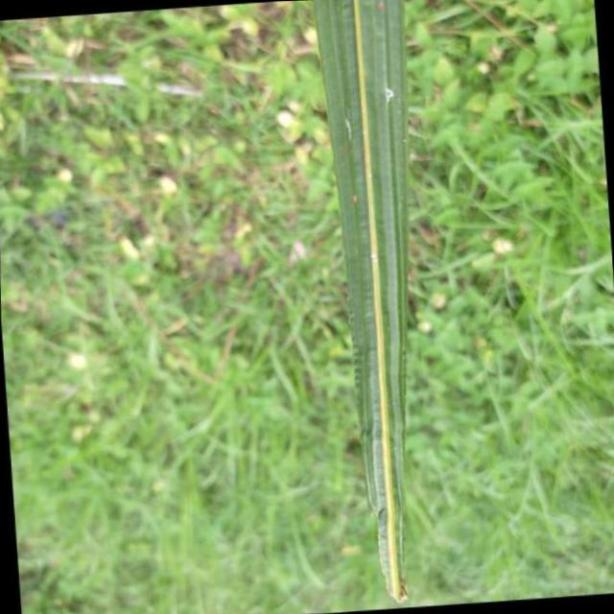Boron: (313, 0, 416, 608)
